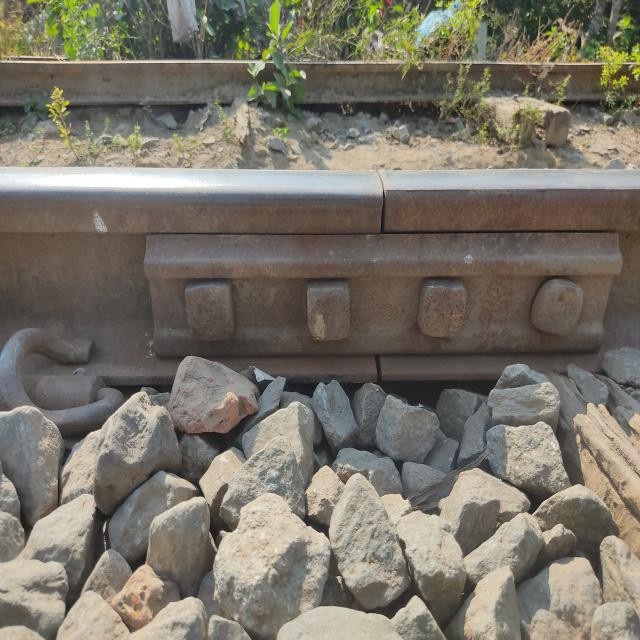non-defective: (199, 156, 582, 345)
